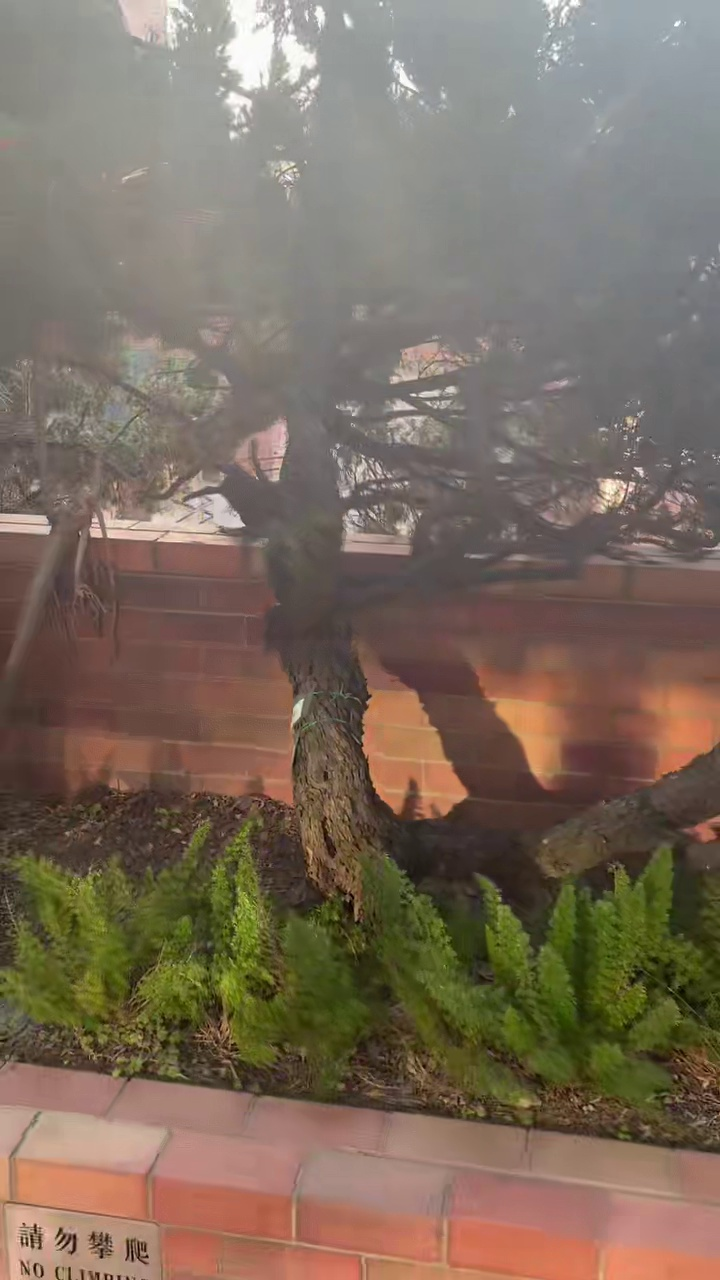Juniperus chinensis: (58, 0, 719, 905)
